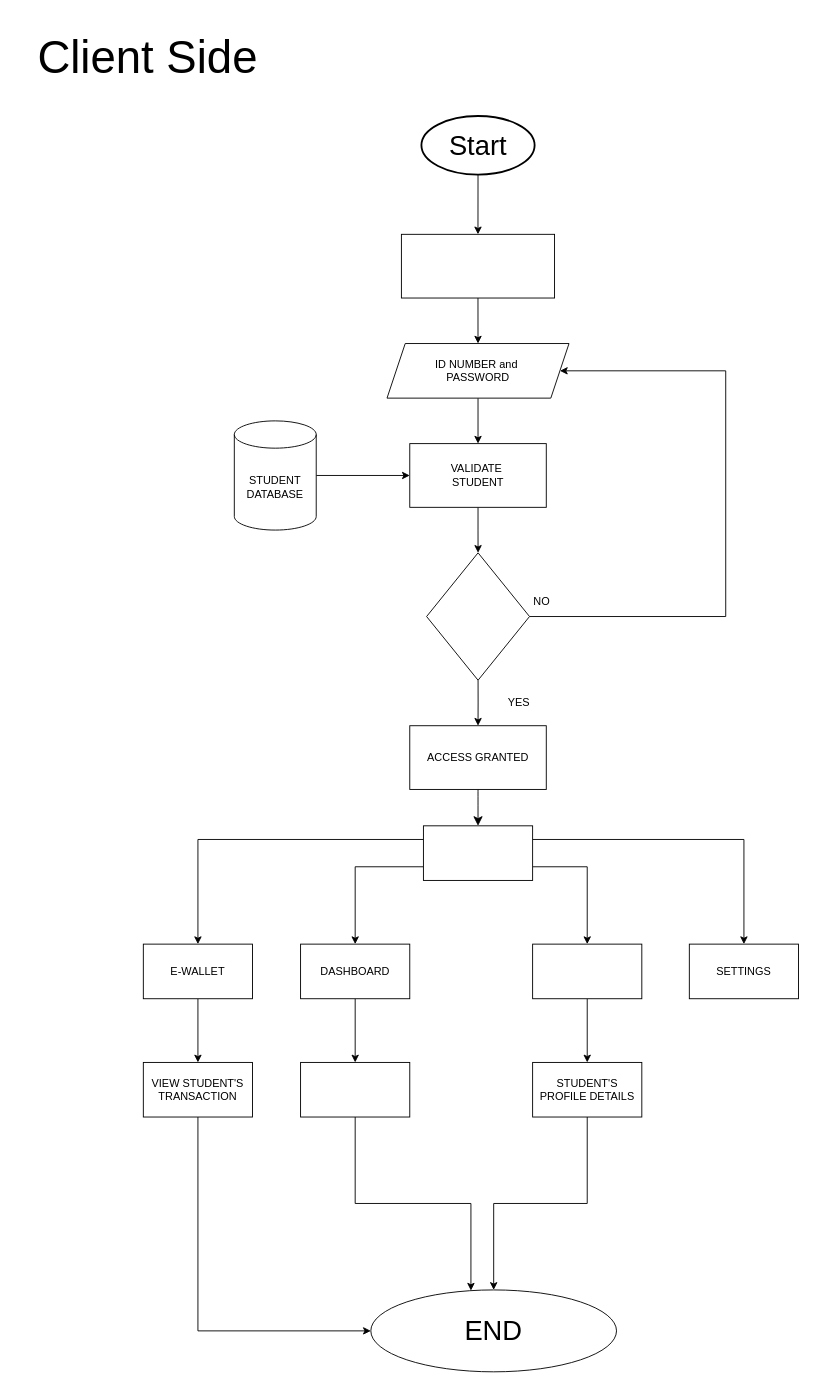
Some shapes in this 814 by 1388 pixel diagram are drawn without their labels. Here are the shapes that lost their labels. From the top down, the centre of each, then its label:
At (477,265): "Student Login".
At (478,616): "VERIFICATION".
At (478,852): "NAVIGATION".
At (587,971): "PROFILE".
At (355,1089): "STUDENT'S LOGIN/LOGOUT RECORD".
